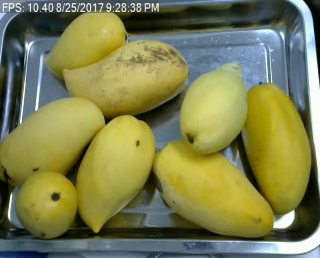Mango: (151, 140, 276, 238), (61, 39, 188, 116), (241, 80, 312, 212), (0, 97, 107, 184), (76, 116, 154, 232), (179, 63, 249, 153), (44, 9, 128, 80), (16, 172, 79, 239)
